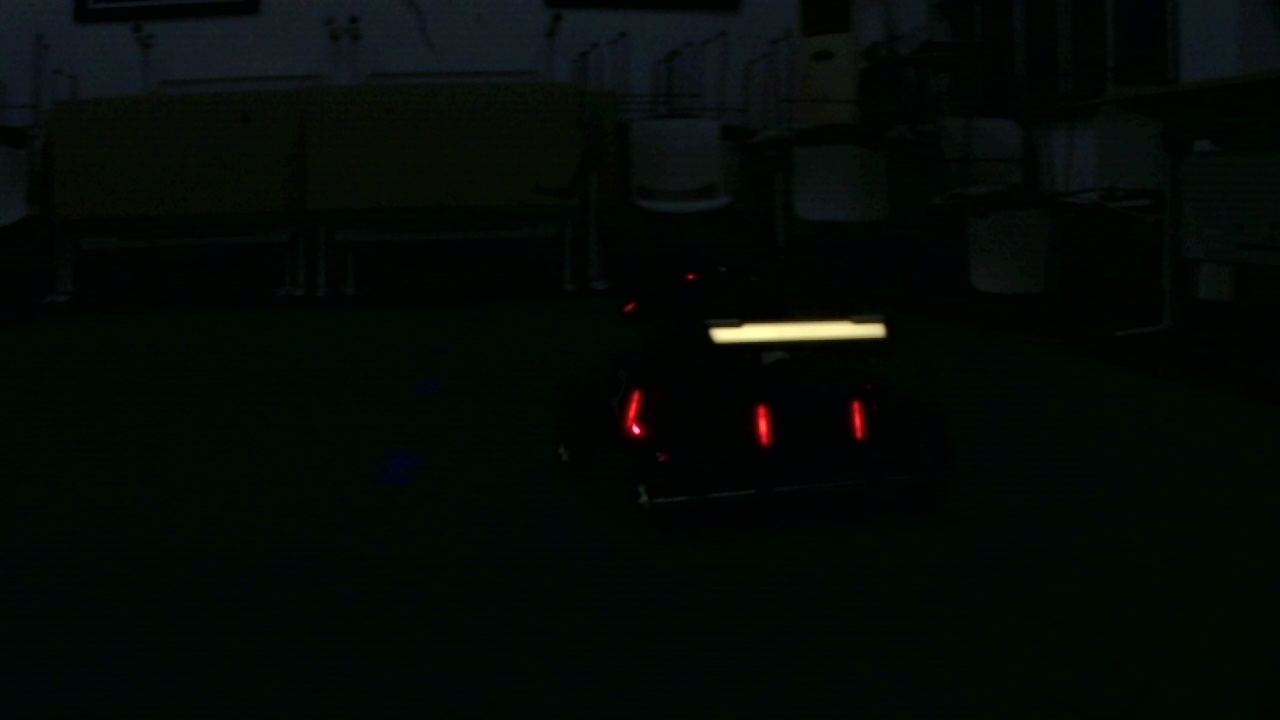lamp: (621, 384, 644, 437), (752, 399, 772, 448), (851, 398, 865, 444)
notpair1: (622, 384, 772, 448)
pair1: (754, 401, 868, 449)
